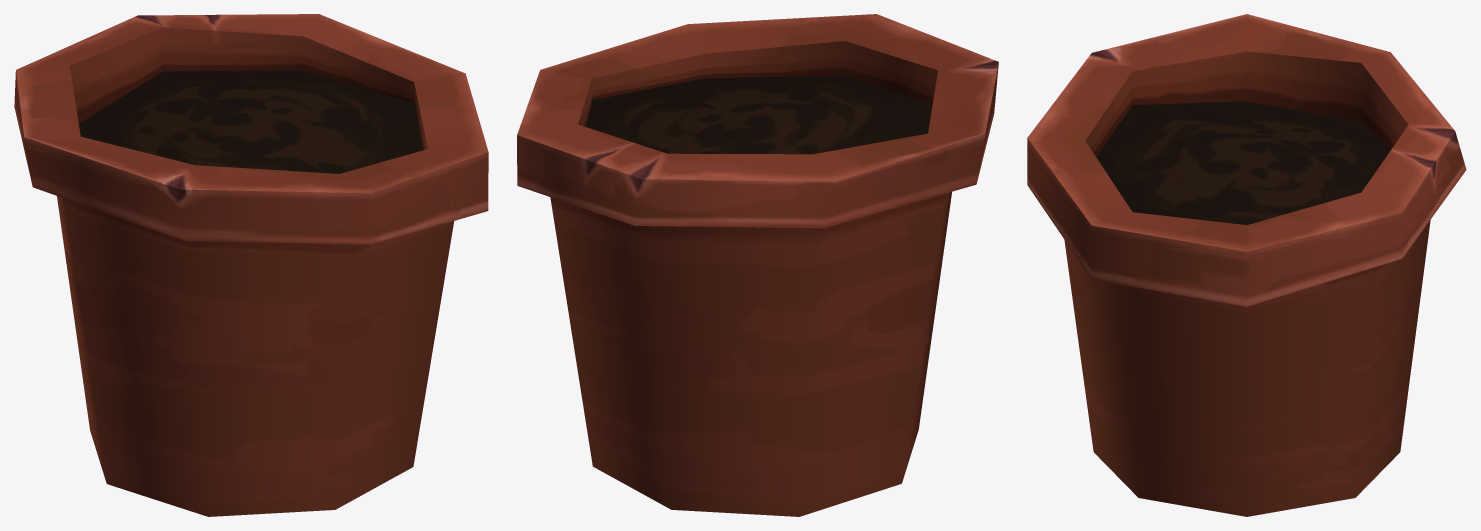
File: SM_PROP_plantpot_interior_01.fbx
3 views of the same model, side by side, from view 1: azimuth 30°, elevation 25°; view 2: azimuth 150°, elevation 25°; view 3: azimuth 270°, elevation 25° (orthographic). The views are drawn at different scales.
Parts seen in each view (by area): view 1: SM_PROP_plantpot_interior_01; view 2: SM_PROP_plantpot_interior_01; view 3: SM_PROP_plantpot_interior_01.
Part boxes in pixels (x1=…): SM_PROP_plantpot_interior_01: x1=14, y1=14, x2=488, y2=516; SM_PROP_plantpot_interior_01: x1=517, y1=14, x2=998, y2=516; SM_PROP_plantpot_interior_01: x1=1027, y1=14, x2=1466, y2=516.
Size of the model in its own units: 24.25 by 19.13 by 22.63.
